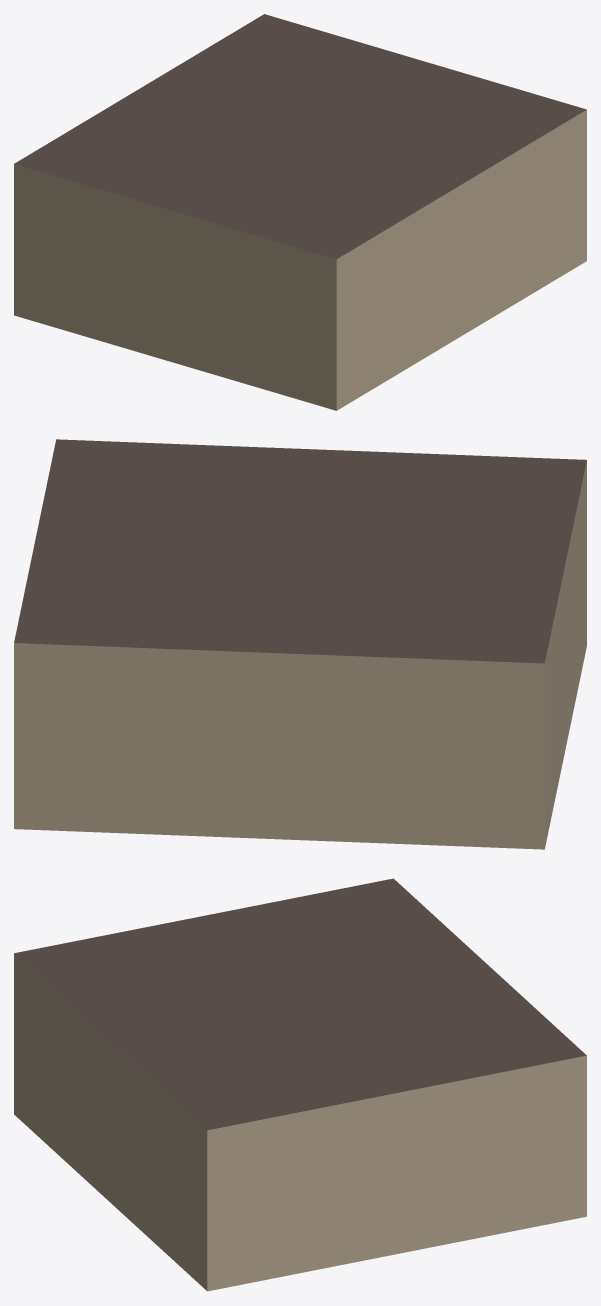
The picture shows the model from 3 angles, top to bottom: view 1: azimuth 30°, elevation 25°; view 2: azimuth 150°, elevation 25°; view 3: azimuth 270°, elevation 25°; orthographic projection. The views are drawn at different scales.
Parts seen in each view (by area): view 1: HP-w859424180; view 2: HP-w859424180; view 3: HP-w859424180.
Boxes of the visible parts, left/top/right/bottom form: HP-w859424180: left=14, top=14, right=586, bottom=410; HP-w859424180: left=14, top=439, right=586, bottom=849; HP-w859424180: left=14, top=878, right=586, bottom=1291.
Bounding box in the file's own units: 30.17 × 9 × 29.
